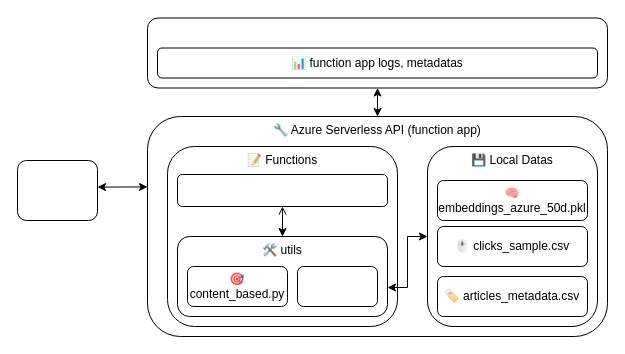
This 625x354 diagram has some shape labels left out. Here are the shapes that lost their labels. From the top down, the box of each, then its label:
(146, 17, 608, 88): ☁️ Azure Storage Account
(16, 160, 98, 220): 🖥️ Streamlit Dashboard
(176, 174, 388, 206): 🐍 function_app.py
(296, 266, 378, 306): 📂 data_loader.py
